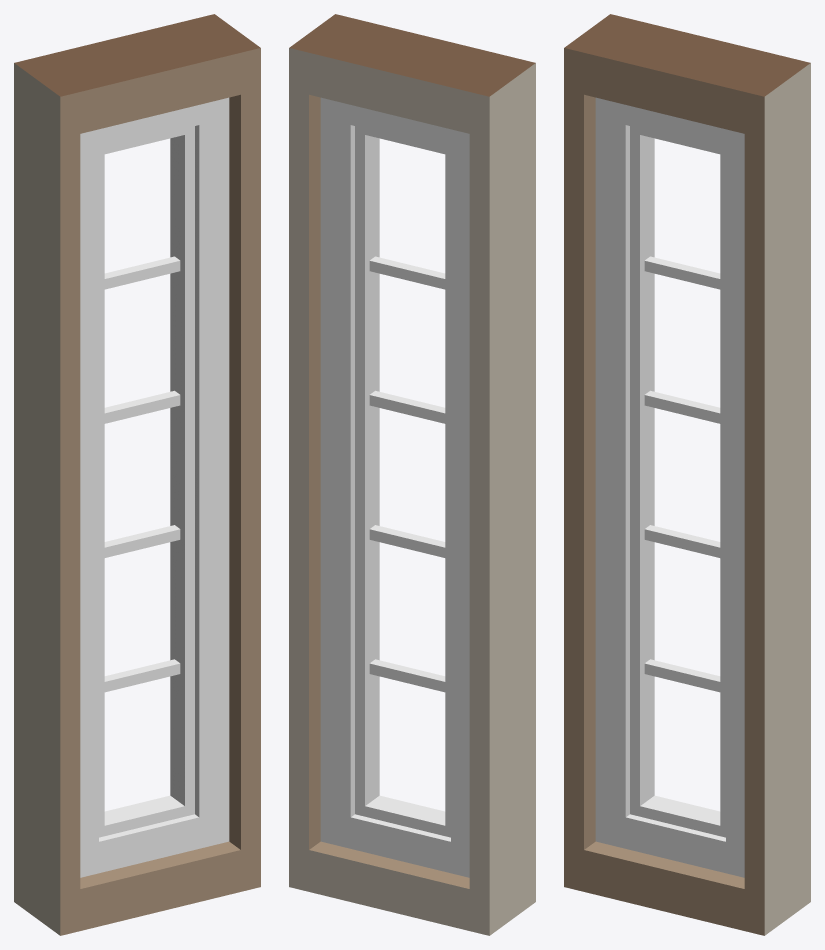
Rendered from Structure_Exterior_Doorway_Sidelight.obj.
3 views of the same model, side by side, from view 1: azimuth 30°, elevation 25°; view 2: azimuth 150°, elevation 25°; view 3: azimuth 330°, elevation 25° (orthographic).
Visible parts, largest first — view 1: object1; view 2: object1; view 3: object1.
Boxes of the visible parts, x1,y1,x2,y2 form: object1: [14, 14, 260, 935]; object1: [289, 14, 535, 935]; object1: [564, 14, 810, 935].
Size of the model in its own units: 0.5 by 2 by 0.2.
